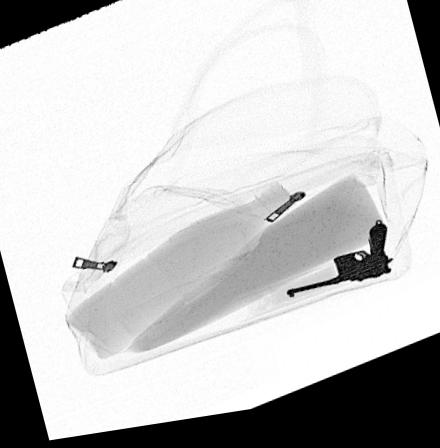Gun: (285, 235, 395, 307)
